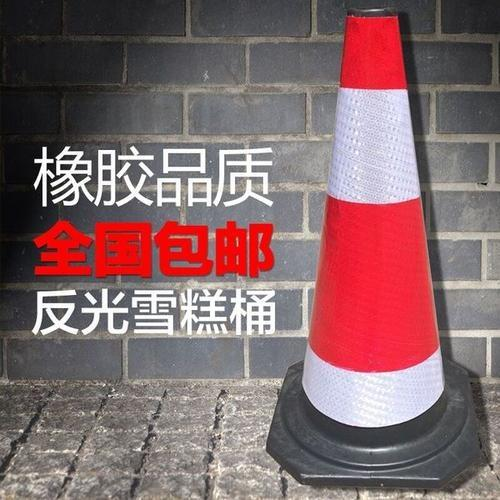cone_barrel: (274, 12, 468, 452)
